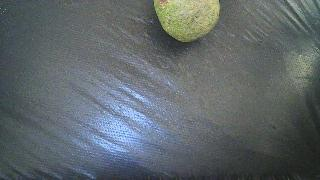DESECHO: (154, 0, 220, 42)
